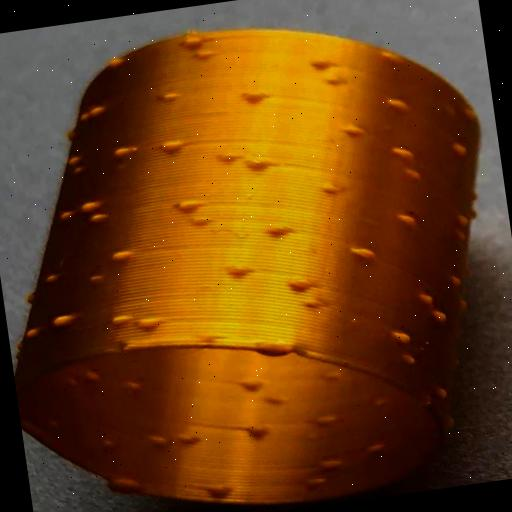blobs: (210, 142, 248, 174), (246, 149, 280, 179), (145, 427, 178, 454), (168, 196, 208, 218), (344, 240, 374, 268), (384, 136, 416, 162), (242, 82, 276, 106), (46, 307, 86, 327), (220, 259, 256, 281), (203, 479, 236, 503), (136, 312, 170, 335), (374, 46, 406, 70), (108, 472, 140, 496), (234, 374, 268, 396), (246, 415, 272, 443), (386, 96, 416, 120), (266, 218, 296, 242), (62, 153, 93, 176), (389, 210, 424, 230), (320, 364, 350, 387), (385, 328, 419, 348), (290, 274, 318, 298), (24, 322, 56, 343), (80, 100, 112, 120), (342, 120, 370, 142), (158, 86, 188, 106), (123, 374, 148, 398), (108, 142, 137, 162), (318, 178, 347, 198), (307, 53, 333, 75), (57, 206, 83, 228), (160, 137, 186, 159), (178, 428, 206, 448), (308, 472, 336, 492), (364, 435, 388, 457), (109, 245, 134, 266), (76, 196, 105, 214), (362, 394, 394, 410), (402, 163, 424, 185), (430, 306, 454, 326), (312, 412, 336, 432), (108, 310, 134, 328), (320, 456, 348, 472), (85, 366, 107, 386), (456, 208, 476, 230), (402, 352, 424, 372), (182, 36, 209, 52), (452, 138, 472, 159), (448, 272, 468, 292), (434, 382, 454, 402), (101, 436, 122, 454), (418, 290, 438, 308), (107, 55, 126, 72), (88, 210, 108, 226)
